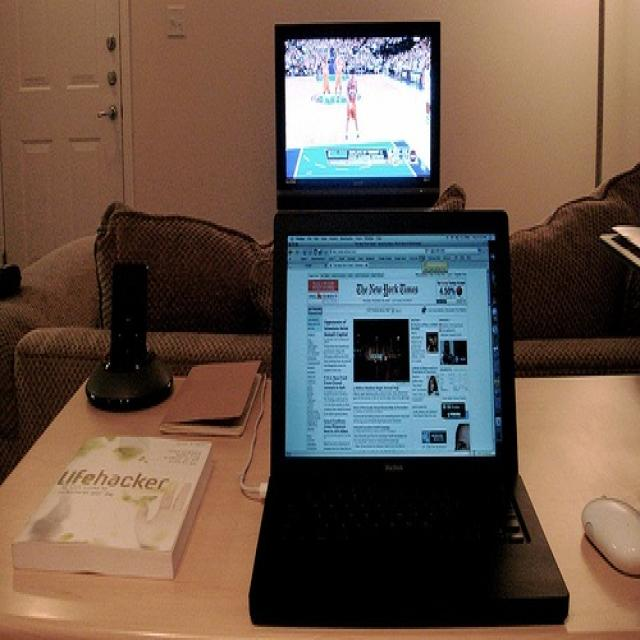sofa: (0, 158, 639, 490)
tvmonitor: (269, 18, 440, 206)
